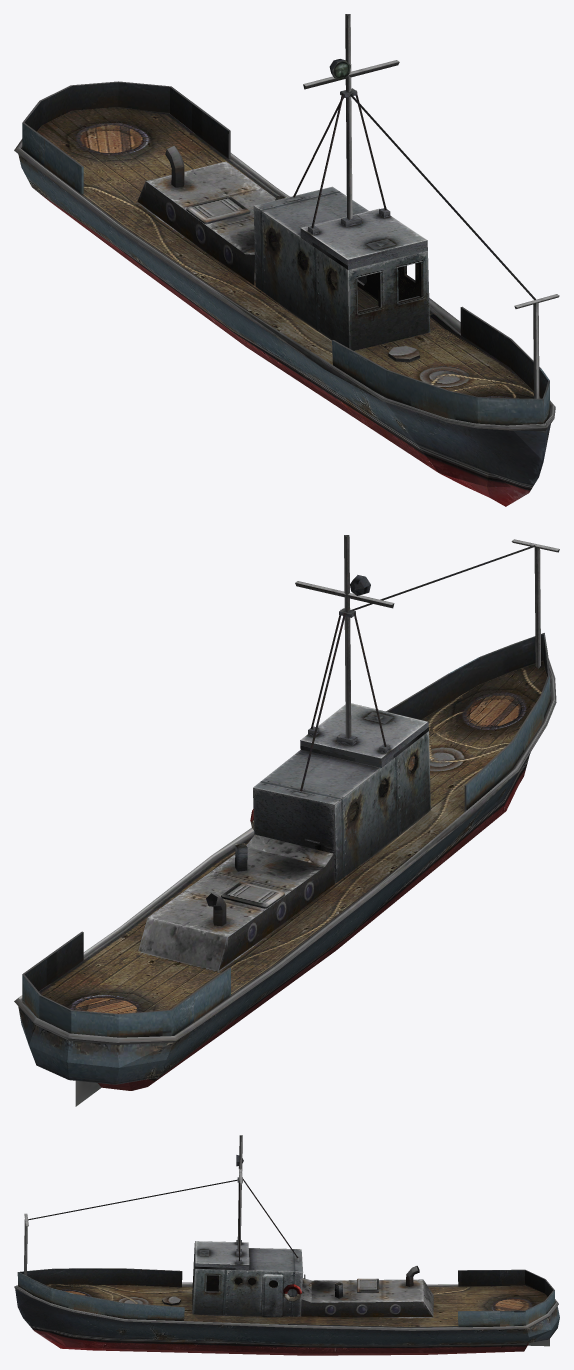
File: Boat_2.FBX
3 renders of one model, top to bottom at view 1: azimuth 30°, elevation 25°; view 2: azimuth 150°, elevation 25°; view 3: azimuth 270°, elevation 25°, orthographic. The views are drawn at different scales.
Visible parts, largest first — view 1: Boat_2; view 2: Boat_2; view 3: Boat_2.
Boxes of the visible parts, x1,y1,x2,y2 form: Boat_2: (14,14,559,506); Boat_2: (14,535,559,1106); Boat_2: (14,1135,559,1355).
Size of the model in its own units: 3.33 by 7.4 by 17.01.
Materials: 1 (1 with a texture image).
